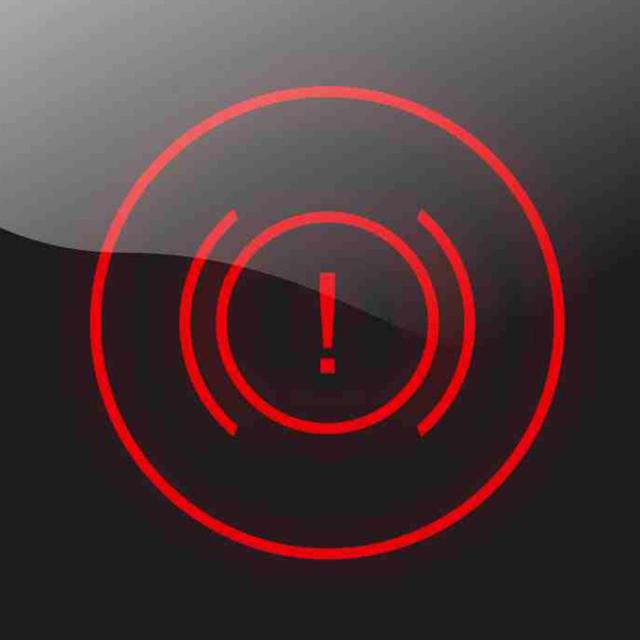kontrolka: (169, 186, 486, 463)
